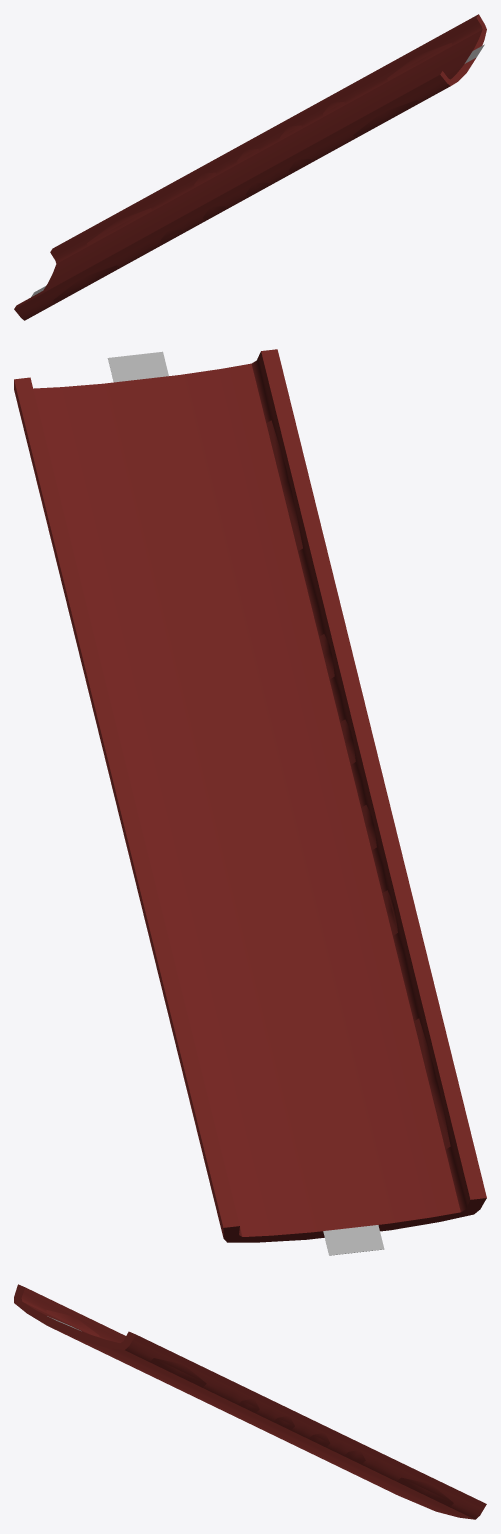
File: 45DiagUp.fbx
3 renders of one model, top to bottom at view 1: azimuth 30°, elevation 25°; view 2: azimuth 150°, elevation 25°; view 3: azimuth 270°, elevation 25°, orthographic. The views are drawn at different scales.
Parts seen in each view (by area): view 1: pPipe3; view 2: pPipe3, pasted__pasted__pCube44, pasted__pasted__pCube47; view 3: pPipe3.
Boxes of the visible parts, <box> form: pPipe3: <box>14,14,486,320</box>; pPipe3: <box>14,349,486,1242</box>; pasted__pasted__pCube44: <box>323,1225,384,1255</box>; pasted__pasted__pCube47: <box>107,351,168,382</box>; pPipe3: <box>14,1284,486,1519</box>.
Size of the model in its own units: 26.98 by 21.45 by 26.97.
